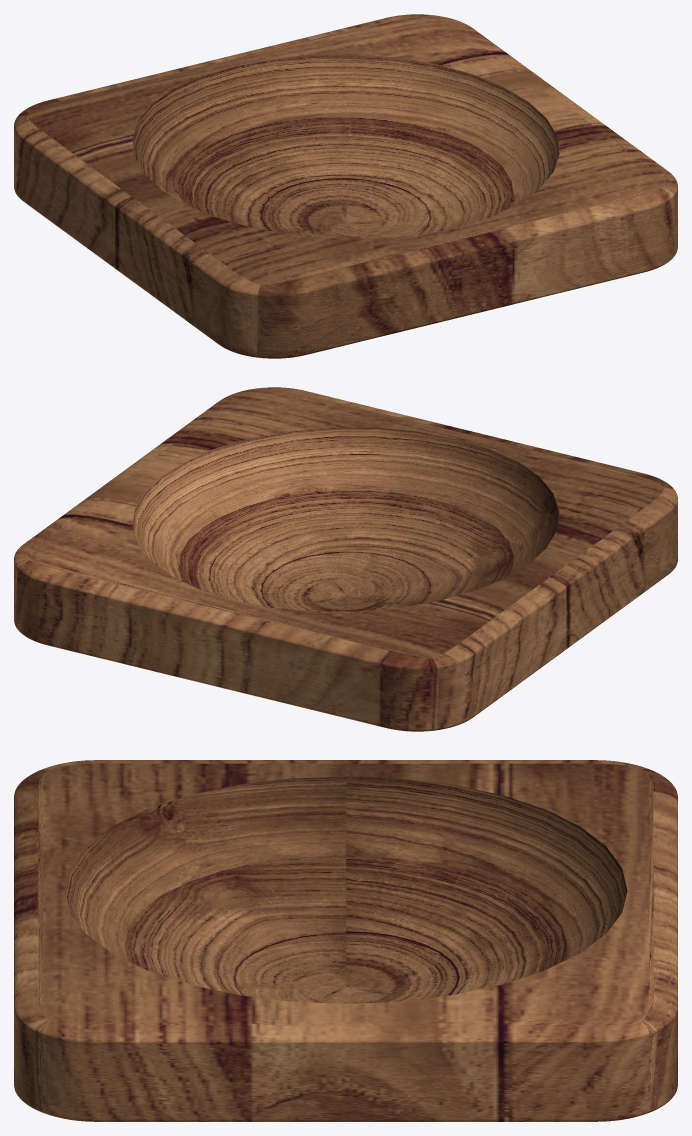
The model's file is captur.gltf.
3 views of the same model, one above another, from view 1: azimuth 30°, elevation 25°; view 2: azimuth 150°, elevation 25°; view 3: azimuth 270°, elevation 25° (orthographic). The views are drawn at different scales.
Parts seen in each view (by area): view 1: player-captures, capture-house; view 2: player-captures, capture-house; view 3: player-captures, capture-house.
Part boxes in pixels (box(x1,y1,x2,y2)): player-captures: box(14, 14, 677, 358); capture-house: box(132, 54, 559, 238); player-captures: box(14, 387, 677, 731); capture-house: box(132, 427, 559, 611); player-captures: box(14, 760, 677, 1121); capture-house: box(64, 776, 627, 1003).
Size of the model in its own units: 14.63 by 2.49 by 14.63.
1 material, 1 textured.
